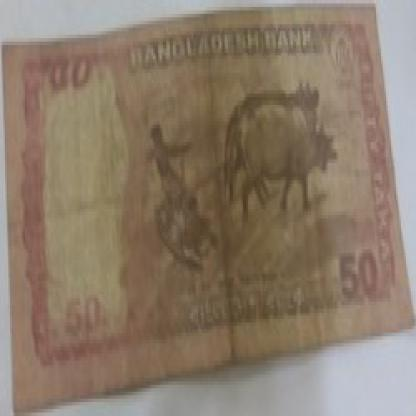Fifty taka: (30, 62, 78, 128), (324, 257, 380, 305)
